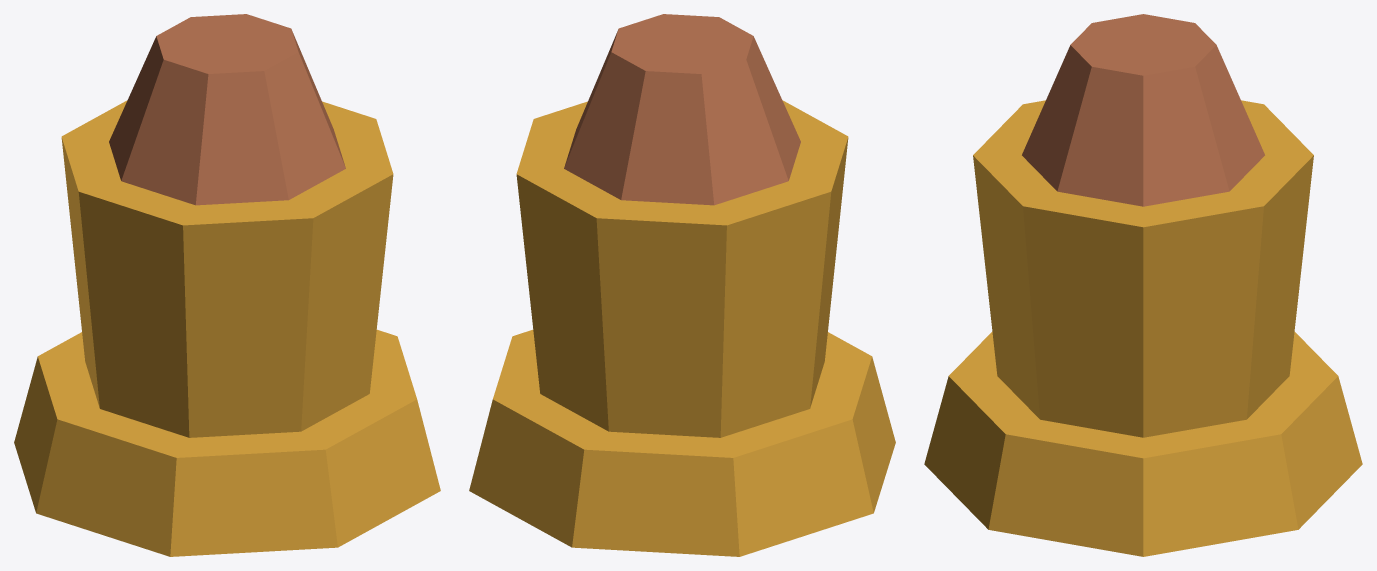
Rendered from oil_lamp.glb.
3 renders of one model, left to right at view 1: azimuth 30°, elevation 25°; view 2: azimuth 150°, elevation 25°; view 3: azimuth 270°, elevation 25°, orthographic.
Parts seen in each view (by area): view 1: oil_lamp; view 2: oil_lamp; view 3: oil_lamp.
Boxes of the visible parts, <box> form: oil_lamp: <box>14,14,440,556</box>; oil_lamp: <box>469,14,895,556</box>; oil_lamp: <box>924,14,1362,556</box>.
Size of the model in its own units: 0.18 by 0.19 by 0.18.
